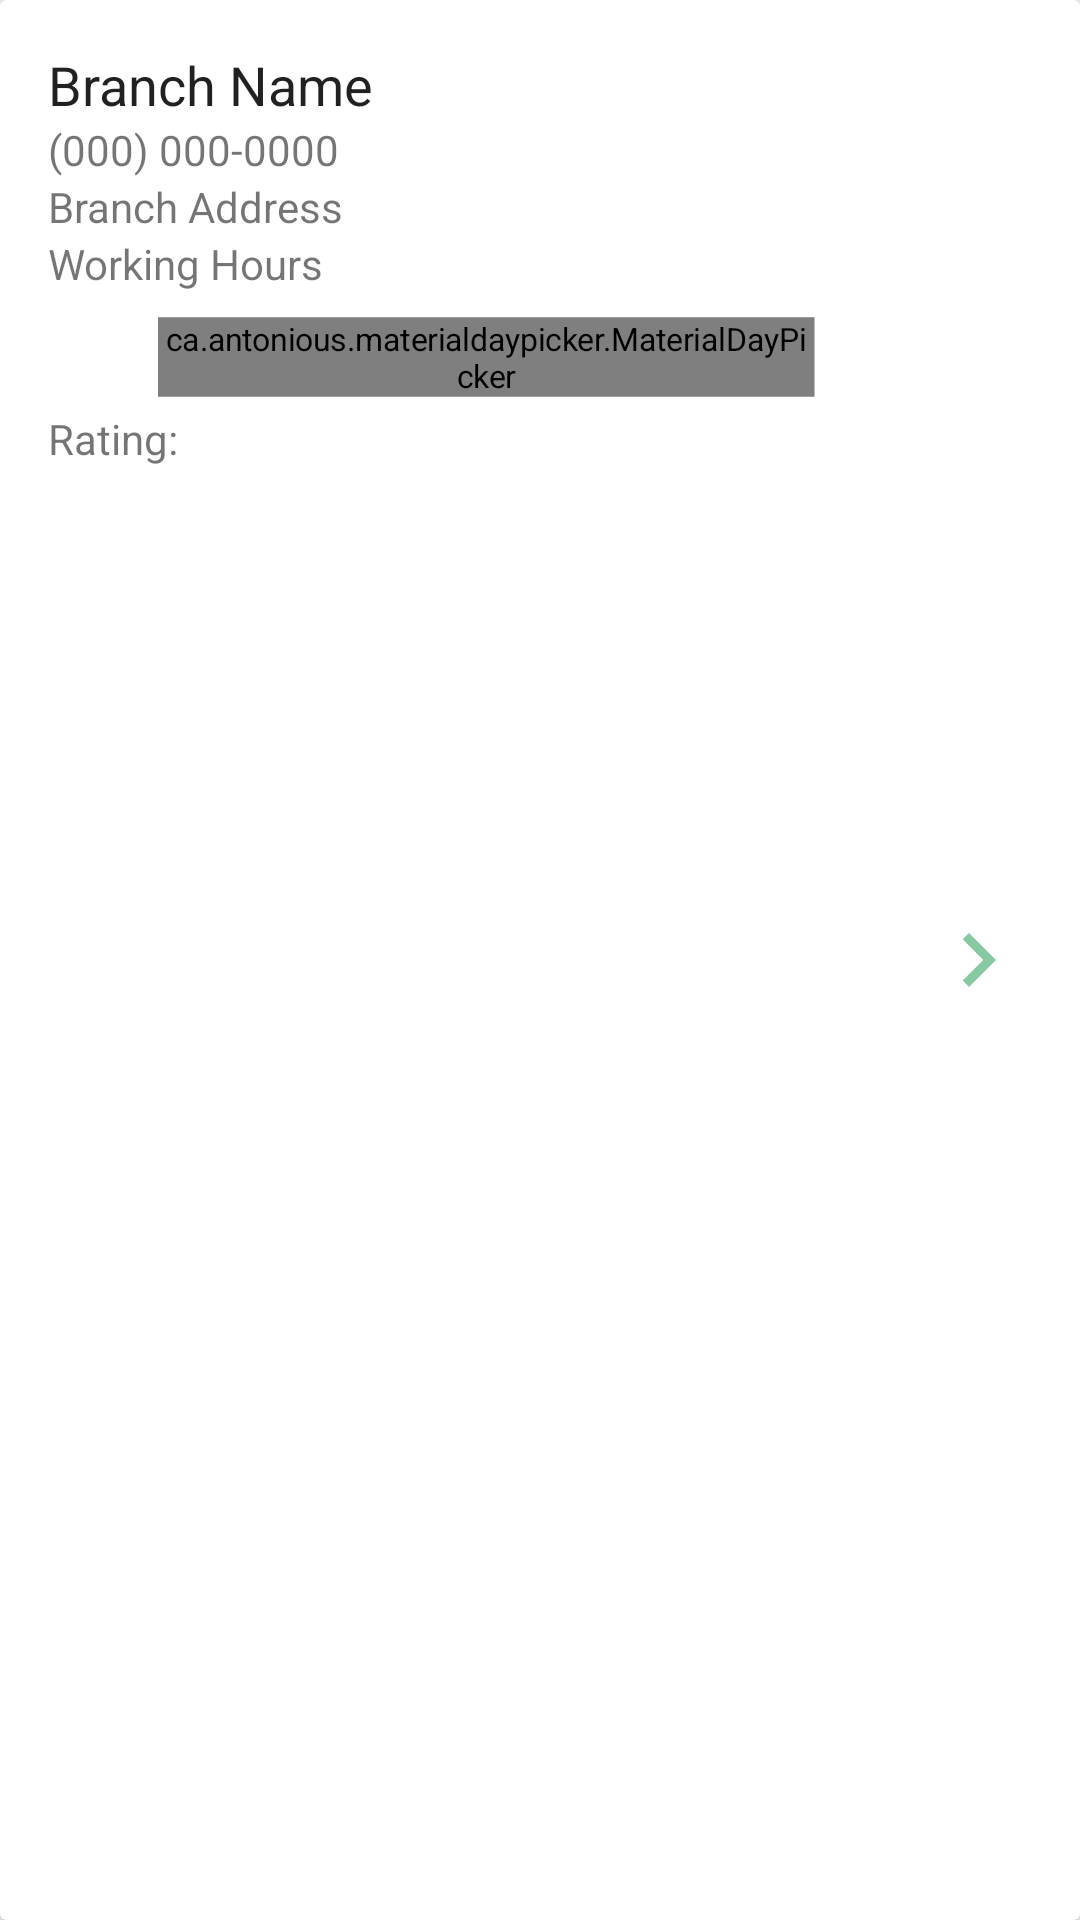

Named icons in this screenshot (1080×1920) and their centers, point (x, y):
chevron right: point (979, 960)
